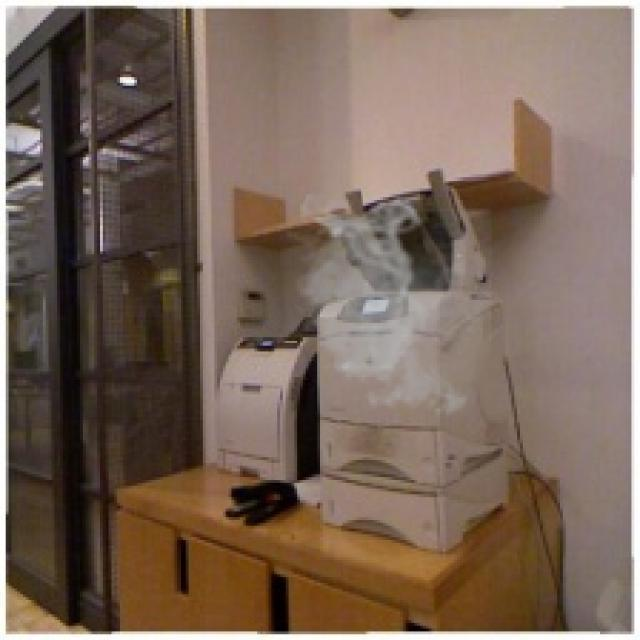Smoke: (288, 194, 492, 423)
